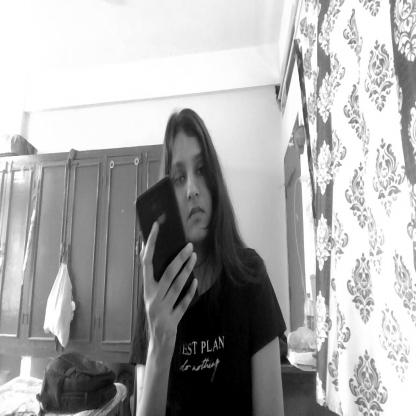Normal: (172, 111, 222, 240)
